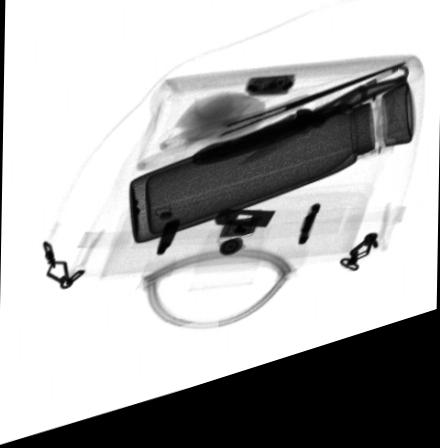Knife: (188, 105, 404, 178)
Scissors: (137, 89, 404, 177)
